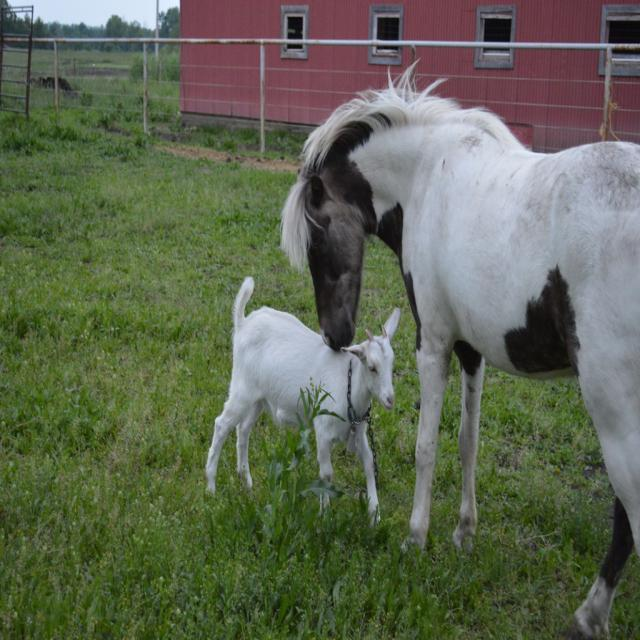Goat: (278, 57, 639, 638), (204, 275, 401, 528)
